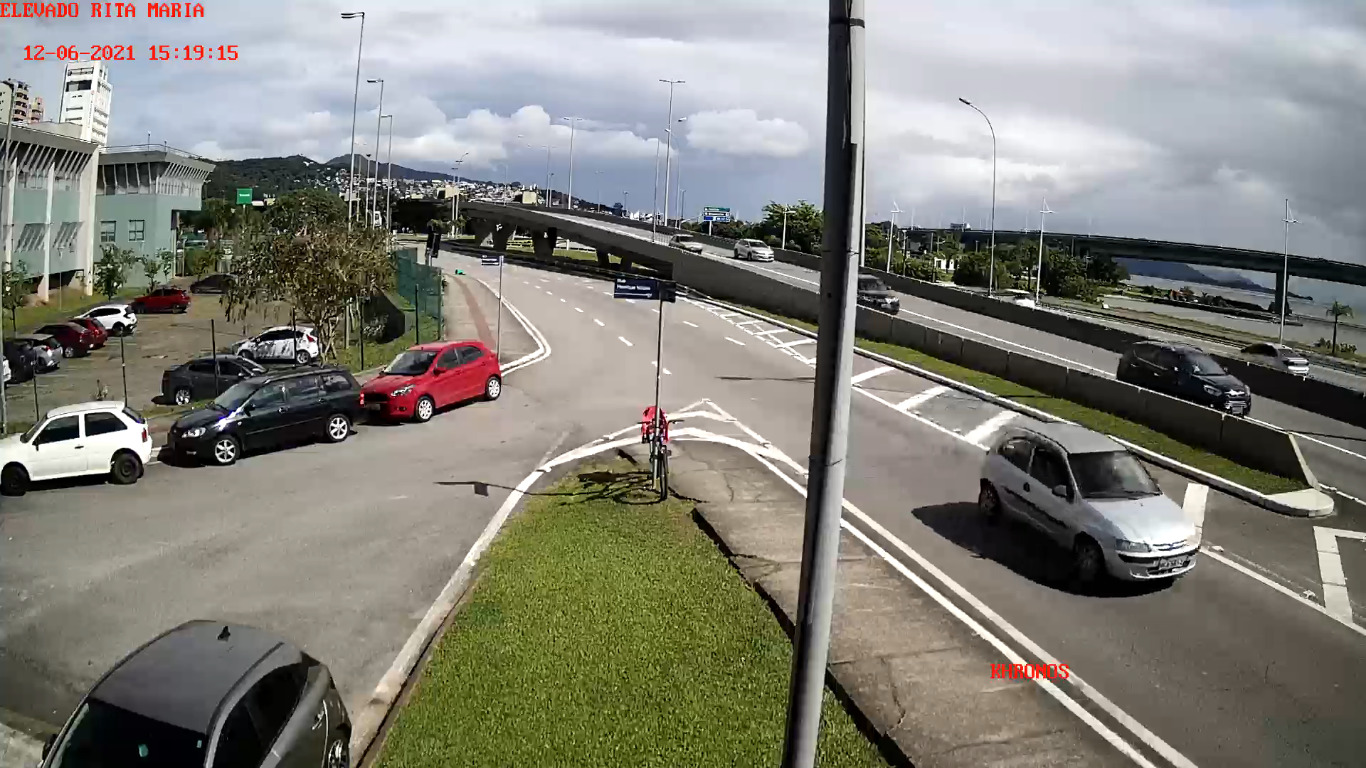car: (978, 420, 1201, 592), (167, 365, 364, 465), (1, 400, 154, 496), (358, 339, 502, 421)
